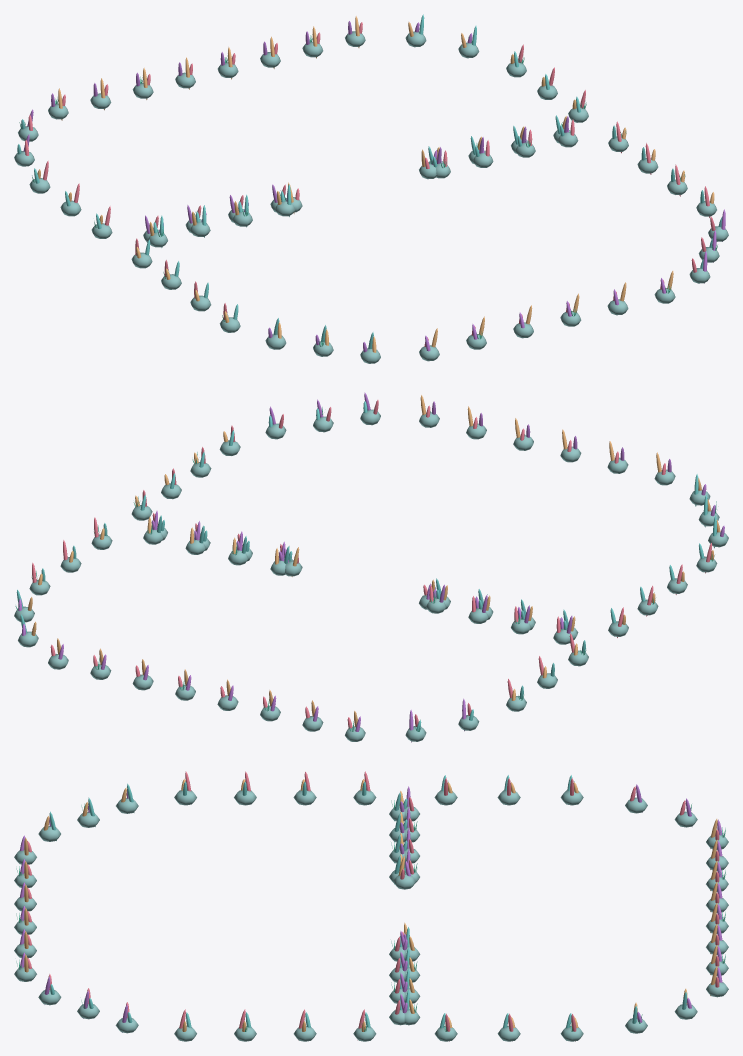
Rendered from reef-15-DuoRX8sH.glb.
3 views of the same model, one above another, from view 1: azimuth 30°, elevation 25°; view 2: azimuth 150°, elevation 25°; view 3: azimuth 270°, elevation 25° (orthographic).
Visible parts, largest first — view 1: ReefRock, Coral2, Coral3, Coral0, Coral1; view 2: ReefRock, Coral2, Coral1, Coral0, Coral3; view 3: ReefRock, Coral0, Coral2, Coral1, Coral3.
Boxes of the visible parts, x1,y1,x2,y2 form: ReefRock: (14, 31, 728, 363); Coral2: (37, 16, 714, 352); Coral3: (17, 14, 722, 348); Coral0: (25, 22, 715, 346); Coral1: (23, 21, 725, 352); ReefRock: (14, 409, 728, 741); Coral2: (27, 395, 720, 726); Coral1: (18, 392, 724, 742); Coral0: (32, 400, 712, 728); Coral3: (16, 401, 716, 731); ReefRock: (14, 790, 728, 1041); Coral0: (27, 771, 719, 1041); Coral2: (24, 779, 717, 1031); Coral1: (20, 784, 722, 1032); Coral3: (49, 775, 689, 1028).
Size of the model in its own units: 35 by 2.06 by 43.1.
